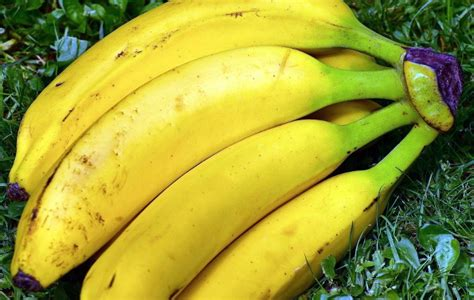banana: (6, 45, 346, 296), (5, 1, 362, 208), (72, 109, 368, 299), (173, 160, 401, 300)
